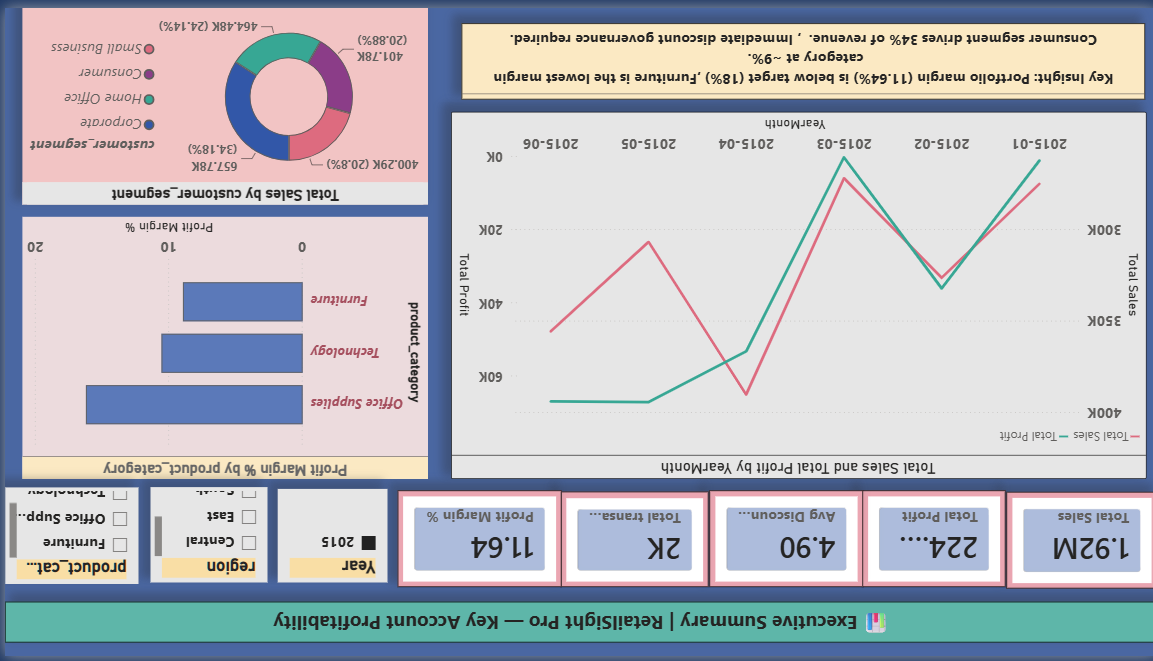

The page's visual inventory and layout, read from the dashboard file:
{"tool":"powerbi","page":{"name":"Executive Summary","canvas":[1280,720],"ordinal":0},"visuals":[{"type":"cardVisual","fields":{"Data":["_Measures.Total Sales"]},"box":[0,74.8,167.5,107.4],"z":0},{"type":"cardVisual","fields":{"Data":["_Measures.Total Profit"]},"box":[167.5,76.4,159.4,107.4],"z":1000},{"type":"cardVisual","fields":{"Data":["_Measures.Avg Discount %"]},"box":[326.9,76.4,170.8,107.4],"z":2000},{"type":"cardVisual","fields":{"Data":["_Measures.Total Orders"]},"box":[497.7,76.4,164.3,105.7],"z":3000},{"type":"cardVisual","fields":{"Data":["_Measures.Profit Margin %"]},"box":[662,76.4,182.2,107.4],"z":4000},{"type":"lineChart","fields":{"Category":["DateTable.YearMonth"],"Y":["_Measures.Total Sales"],"Y2":["_Measures.Total Profit"]},"box":[11.4,196.8,772.6,408.3],"z":5000},{"type":"donutChart","fields":{"Y":["_Measures.Total Sales"],"Category":["SuperStoreUs_data.customer_segment"]},"box":[810,501,450.6,219.6],"z":6000},{"type":"clusteredBarChart","fields":{"Category":["SuperStoreUs_data.product_category"],"Y":["_Measures.Profit Margin %"]},"box":[810,196.8,450.6,291.2],"z":7000},{"type":"slicer","fields":{"Values":["DateTable.Year"]},"box":[855.6,81.3,122,104.1],"z":8000},{"type":"textbox","box":[13,618.1,759.6,84.6],"z":9000},{"type":"slicer","fields":{"Values":["SuperStoreUs_data.region"]},"box":[988.9,81.3,130.1,105.7],"z":10000},{"type":"slicer","fields":{"Values":["SuperStoreUs_data.product_category"]},"box":[1132.1,79.7,148,107.4],"z":11000},{"type":"textbox","box":[0,14.6,1280.1,45.5],"z":12000}]}

Visuals, with their boxes in screenshot pixels (x1, y1, x2, y2), scaled from the page's 1280x720 canvas onto the 1153x661 screenshot:
cardVisual - _Measures.Total Sales: (0,69,151,167)
cardVisual - _Measures.Total Profit: (151,70,294,169)
cardVisual - _Measures.Avg Discount %: (294,70,448,169)
cardVisual - _Measures.Total Orders: (448,70,596,167)
cardVisual - _Measures.Profit Margin %: (596,70,760,169)
lineChart - DateTable.YearMonth x _Measures.Total Sales: (10,181,706,556)
donutChart - _Measures.Total Sales x SuperStoreUs_data.customer_segment: (730,460,1136,660)
clusteredBarChart - SuperStoreUs_data.product_category x _Measures.Profit Margin %: (730,181,1136,448)
slicer - DateTable.Year: (771,75,881,170)
textbox: (12,567,696,645)
slicer - SuperStoreUs_data.region: (891,75,1008,172)
slicer - SuperStoreUs_data.product_category: (1020,73,1152,172)
textbox: (0,13,1152,55)
